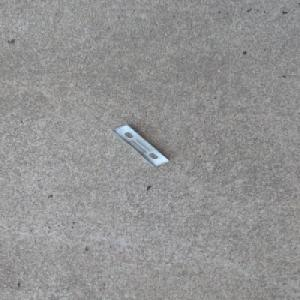ClampPart: (109, 123, 170, 167)
